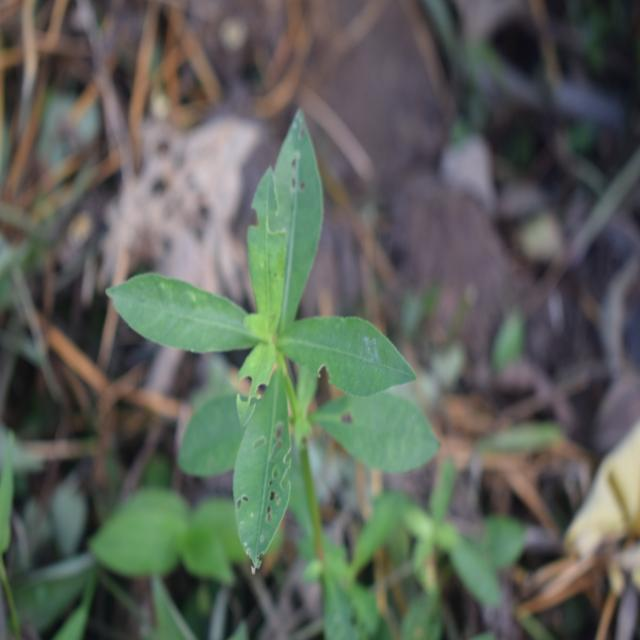Alligatorweed: (131, 149, 427, 532)
